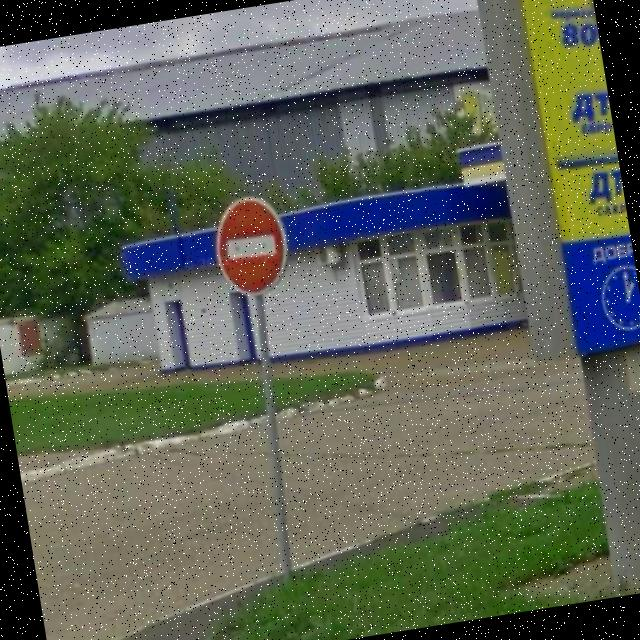Zakaz wjazdu: (200, 182, 305, 310)
